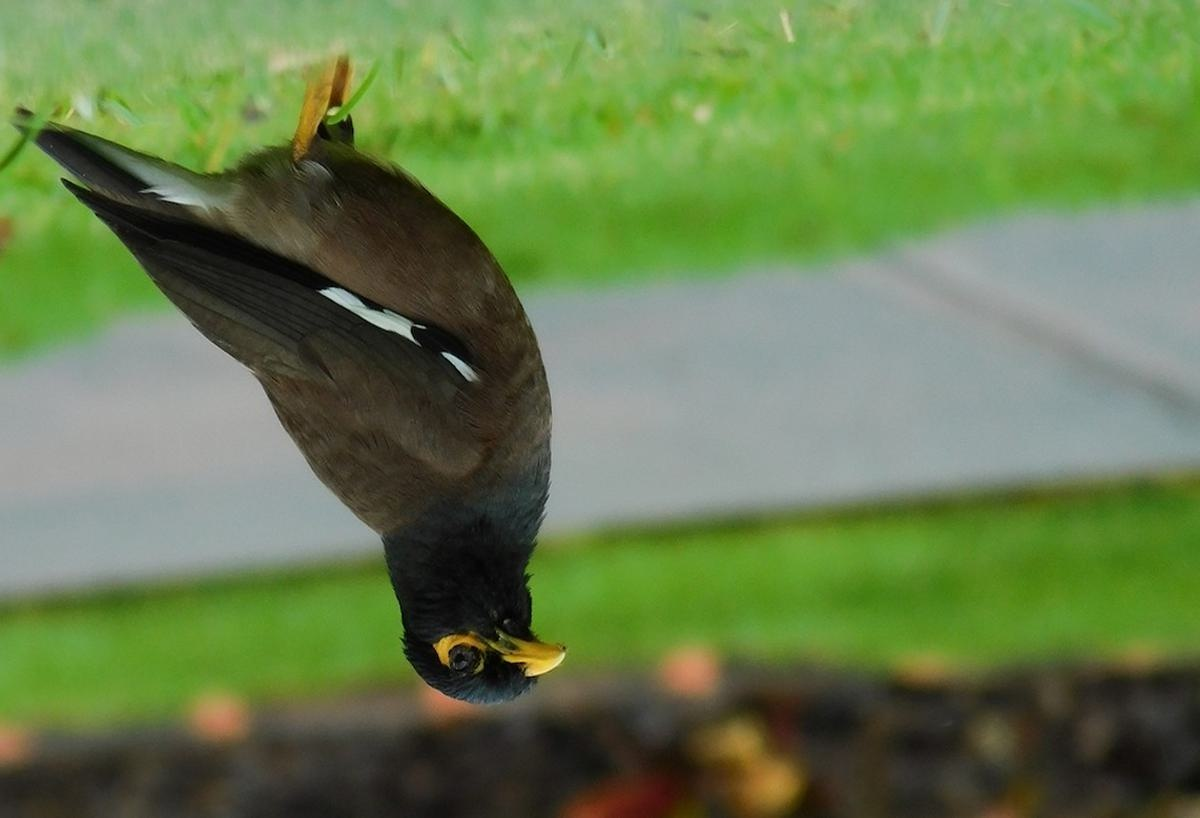myna: (31, 81, 639, 771)
